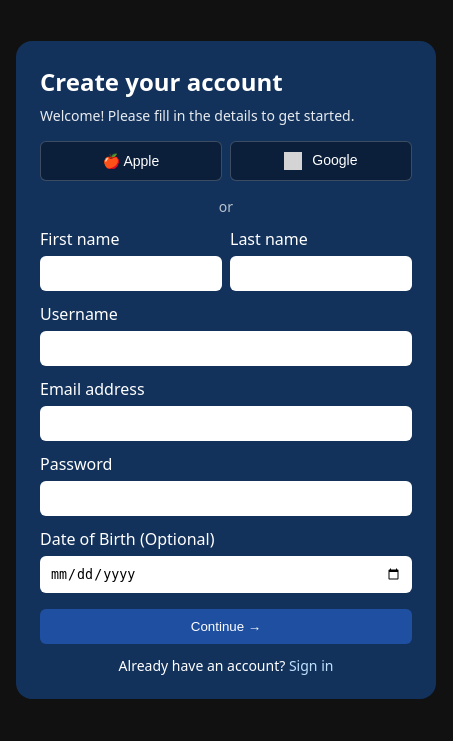
Test: Register Component › Form Validation › validates date of birth must be after 1900
The width and height of the screenshot is (453, 741).
Type "John" into the field below "First name" at (131, 274), box x1=40 y1=256 x2=222 y2=291
Type "Doe" into the field below "Last name" at (321, 274), box x1=230 y1=256 x2=412 y2=291
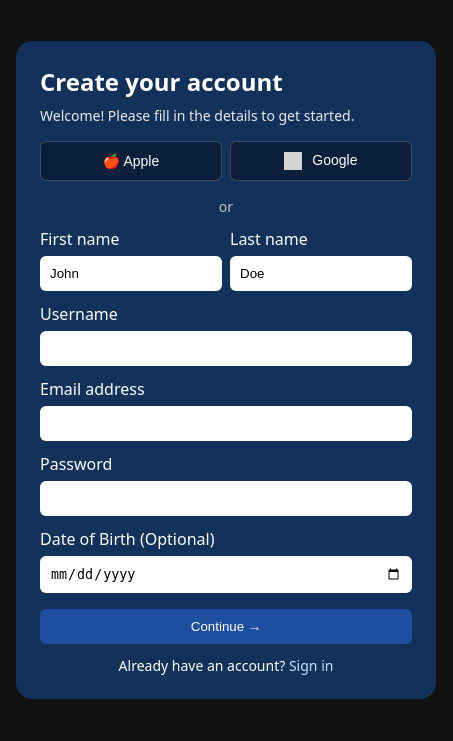
Type "johndoe" into the 3rd field at (226, 348), box x1=40 y1=331 x2=412 y2=366
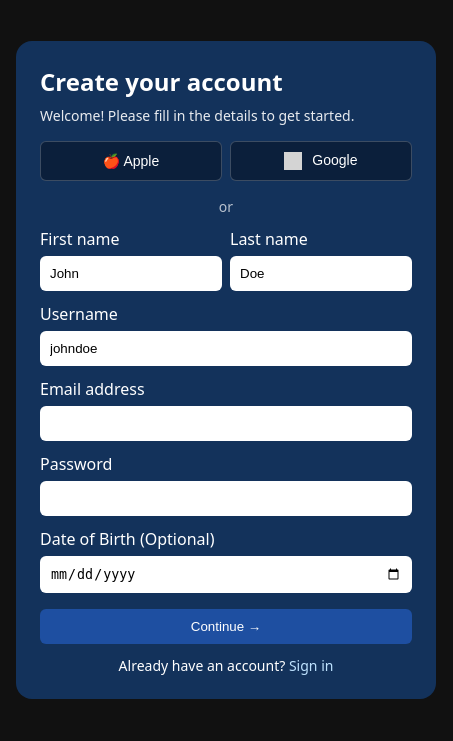
Type "john@example.com" into the 4th field at (226, 424), box x1=40 y1=406 x2=412 y2=441
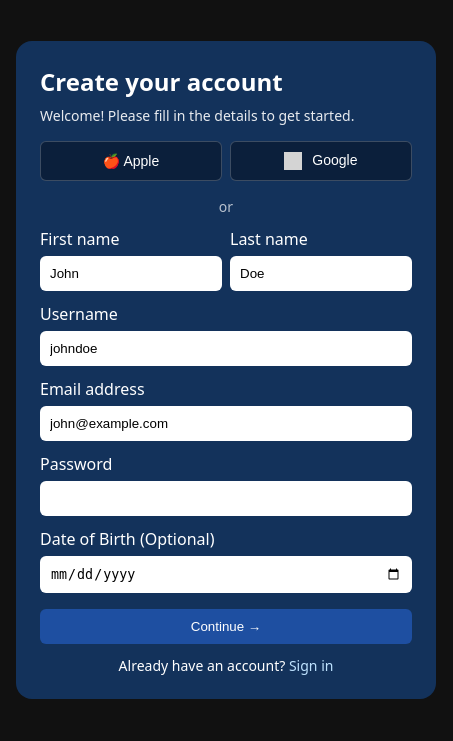
Type "password123" into the password field labelled "Password" at (226, 498), box x1=40 y1=481 x2=412 y2=516
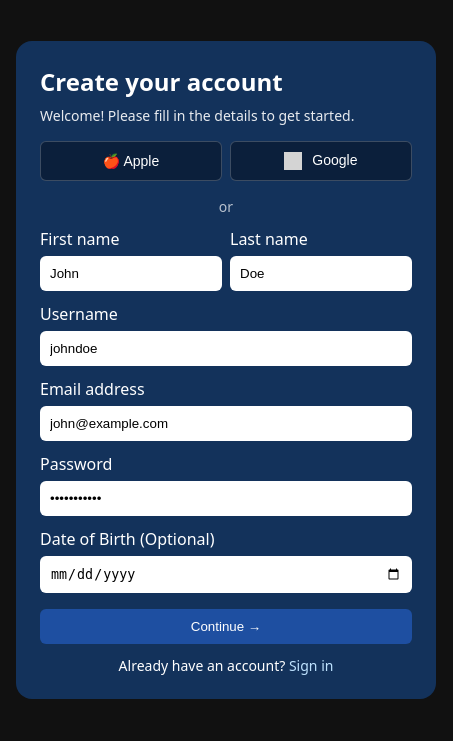
Type "1899-12-31" into the date field labelled "Date of Birth (Optional)" at (226, 575), box x1=40 y1=556 x2=412 y2=593
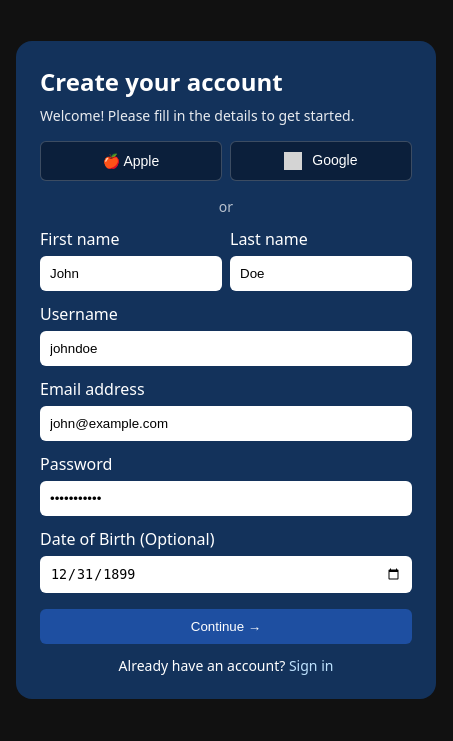
Click the button "Continue →" at (226, 627), box x1=40 y1=609 x2=412 y2=644
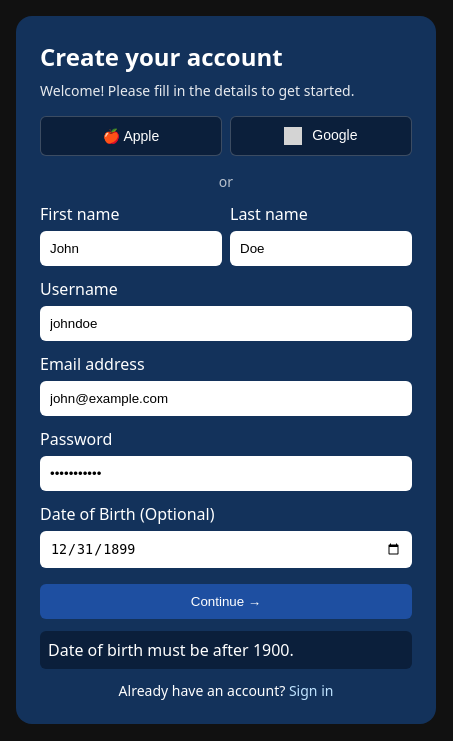
Check: the text "Date of birth must be after 1900." is shown, box x1=40 y1=631 x2=412 y2=669
